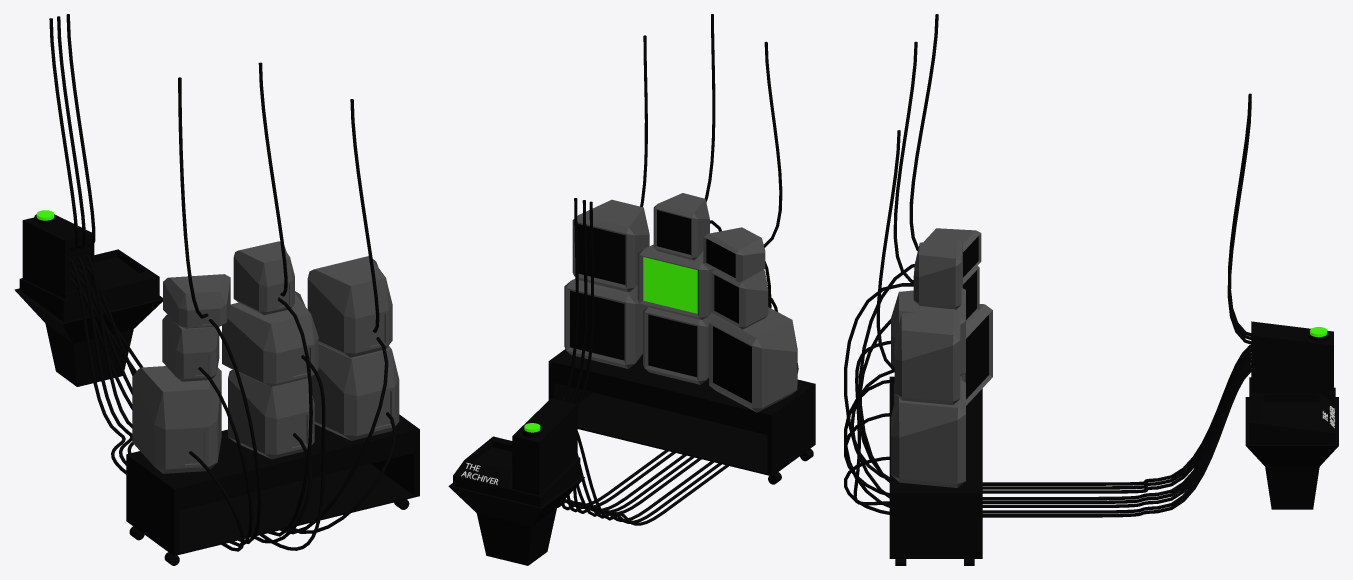
File: The Archiver and TV.fbx
The picture shows the model from 3 angles, left to right: view 1: azimuth 30°, elevation 25°; view 2: azimuth 150°, elevation 25°; view 3: azimuth 270°, elevation 25°; orthographic projection. The views are drawn at different scales.
Visible parts, largest first — view 1: Cube.209, Cube.207, Cube.215, Cube.214, Cube.217, Cube.213, Cube.216, Cube.208, Cube.210, Cube.211, Cube.212, BézierCurve.009 (+13 smaller); view 2: Cube.209, Cube.207, Cube.215, Cube.217, Cube.214, Cube.208, Cube.213, Cube.216, Cube.210, Cube.212, Cube.211, BézierCurve.007 (+11 smaller); view 3: Cube.207, Cube.209, Cube.217, Cube.214, Cube.208, Cube.210, BézierCurve.004, Cube.215, BézierCurve.009, BézierCurve.002, BézierCurve.011, BézierCurve.010 (+10 smaller).
Boxes of the visible parts, x1,y1,x2,y2 form: Cube.209: (126, 414, 419, 555); Cube.207: (19, 215, 159, 322); Cube.215: (132, 366, 221, 473); Cube.214: (307, 256, 392, 357); Cube.217: (311, 343, 399, 440); Cube.213: (222, 291, 318, 386); Cube.216: (228, 369, 314, 459); Cube.208: (14, 288, 162, 386); Cube.210: (233, 241, 294, 315); Cube.211: (163, 274, 230, 328); Cube.212: (162, 314, 219, 381); BézierCurve.009: (85, 254, 261, 543); Cube.209: (548, 349, 815, 476); Cube.207: (453, 398, 580, 506); Cube.215: (709, 307, 797, 412); Cube.217: (564, 279, 646, 368); Cube.214: (572, 199, 649, 292); Cube.208: (448, 476, 584, 565); Cube.213: (637, 244, 714, 319); Cube.216: (643, 307, 716, 384); Cube.210: (653, 193, 709, 260); Cube.212: (711, 270, 768, 329); Cube.211: (703, 227, 765, 282); BézierCurve.007: (577, 363, 798, 525); Cube.207: (1249, 321, 1335, 444); Cube.209: (889, 376, 982, 558); Cube.217: (891, 379, 965, 487); Cube.214: (894, 309, 960, 405); Cube.208: (1245, 397, 1338, 509); Cube.210: (913, 239, 962, 309); BézierCurve.004: (844, 283, 1251, 507); Cube.215: (961, 304, 992, 405); BézierCurve.009: (858, 264, 1251, 493); BézierCurve.002: (853, 340, 1251, 505); BézierCurve.011: (844, 369, 1251, 517); BézierCurve.010: (844, 368, 1250, 513).
Bounding box in the file's own units: 326 × 597 × 581.
